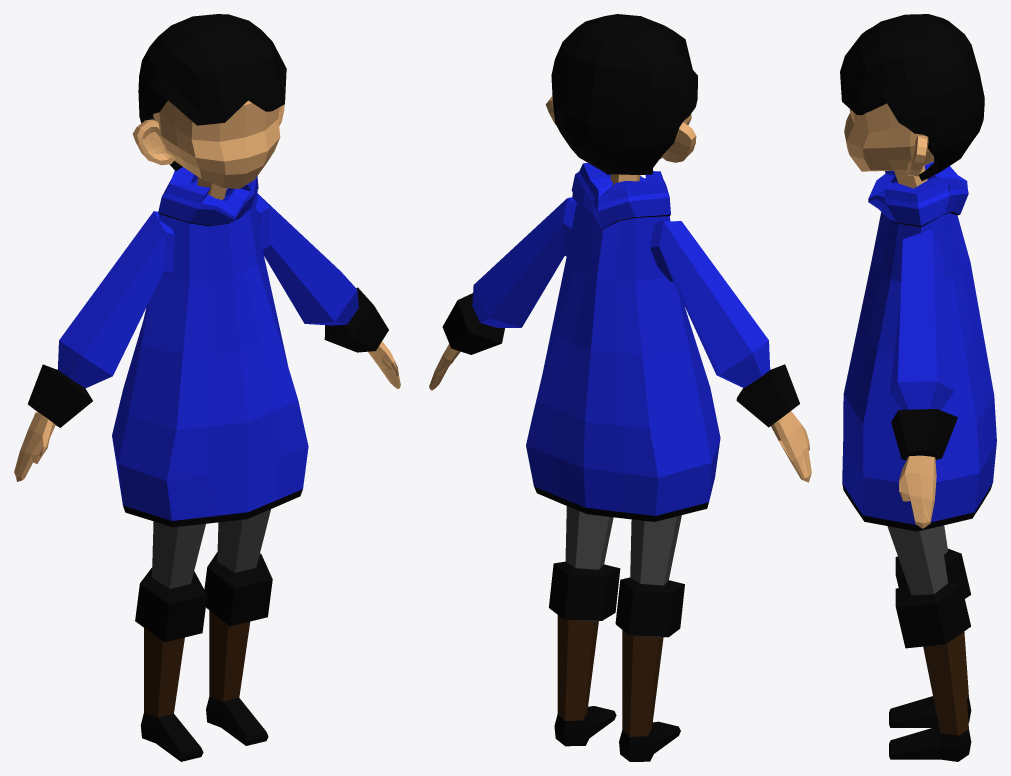
File: 3DModel-1.glb
3 renders of one model, left to right at view 1: azimuth 30°, elevation 25°; view 2: azimuth 150°, elevation 25°; view 3: azimuth 270°, elevation 25°, orthographic.
Parts seen in each view (by area): view 1: Cube.003; view 2: Cube.003; view 3: Cube.003, Cylinder.002.
Part boxes in pixels (box(x1,y1,x2,y2)): Cube.003: box(14, 14, 400, 761); Cube.003: box(429, 14, 811, 761); Cube.003: box(840, 14, 996, 761); Cylinder.002: box(894, 165, 927, 188).
Bounding box in the file's own units: 2.09 × 3.78 × 0.7494.
